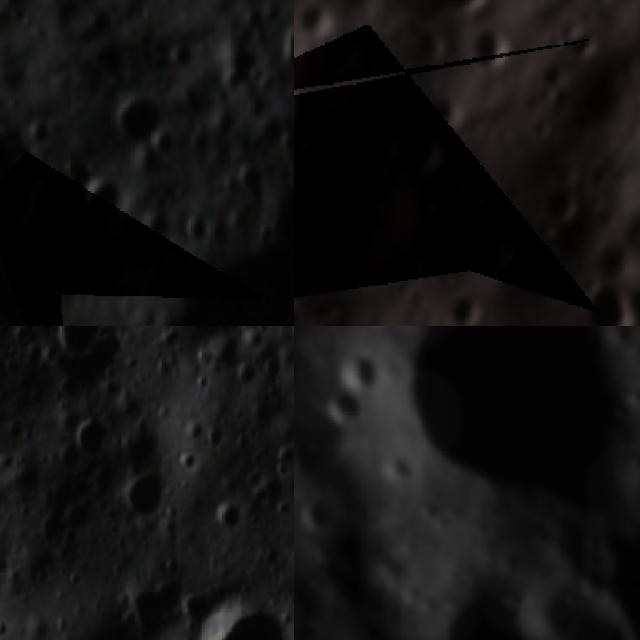crater: (388, 326, 640, 511), (416, 560, 540, 640), (182, 585, 294, 640), (335, 0, 504, 27), (600, 526, 640, 640), (0, 126, 35, 235), (0, 254, 51, 326), (578, 272, 640, 326), (394, 126, 449, 182), (113, 468, 167, 525), (461, 24, 517, 78), (295, 488, 353, 537), (108, 96, 161, 146), (65, 410, 116, 460), (43, 326, 114, 358), (84, 172, 124, 225), (538, 181, 583, 227), (326, 379, 369, 427), (561, 17, 603, 65), (428, 85, 470, 128), (232, 164, 275, 204), (165, 38, 207, 77), (446, 292, 492, 326), (456, 182, 493, 220), (410, 22, 447, 59), (312, 236, 346, 276), (209, 496, 243, 536), (297, 0, 340, 29), (272, 11, 294, 66), (184, 214, 213, 255), (215, 104, 249, 136), (537, 57, 573, 86), (142, 127, 176, 156), (362, 153, 396, 181), (442, 0, 496, 17), (358, 186, 385, 220), (173, 448, 201, 477), (536, 77, 562, 103), (626, 280, 640, 326)
